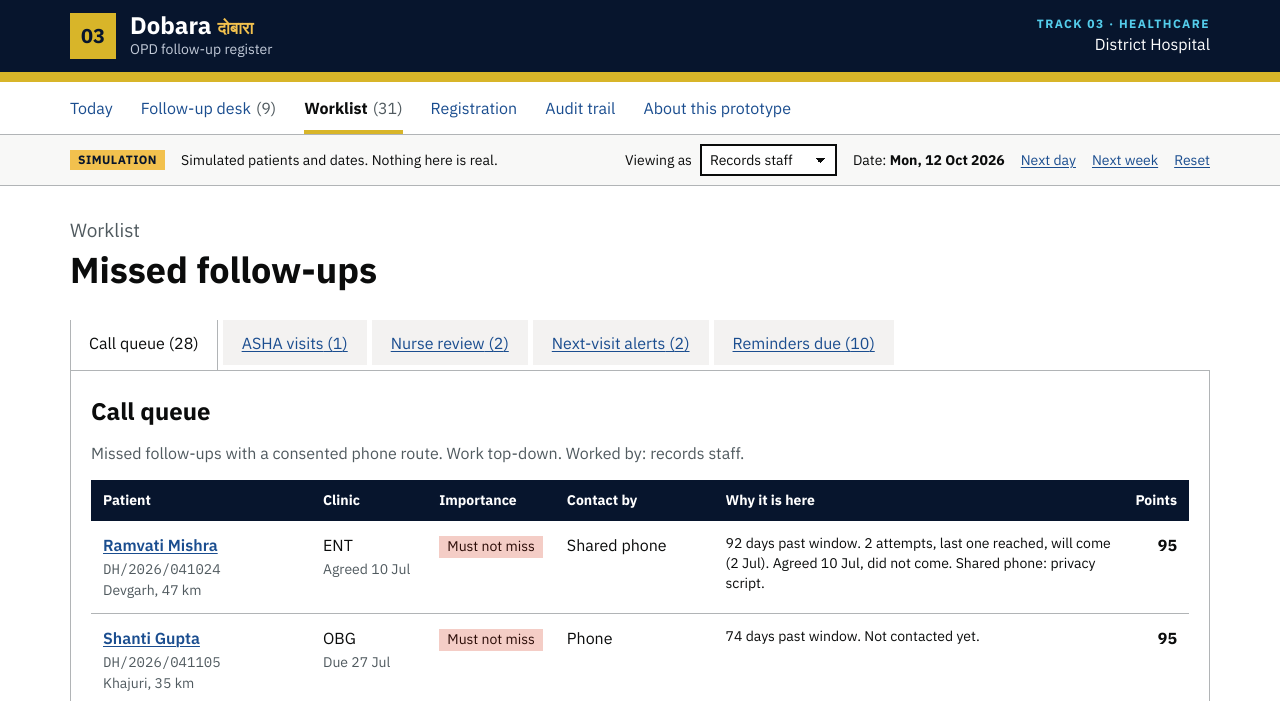
Test: app smoke test › opens a case page from the worklist
What coordinates should you click on to do the following:
click the link "Ramvati Mishra"
I would click on:
 (160, 545)
Its box is x1=103 y1=535 x2=218 y2=555.
(page scrolled)
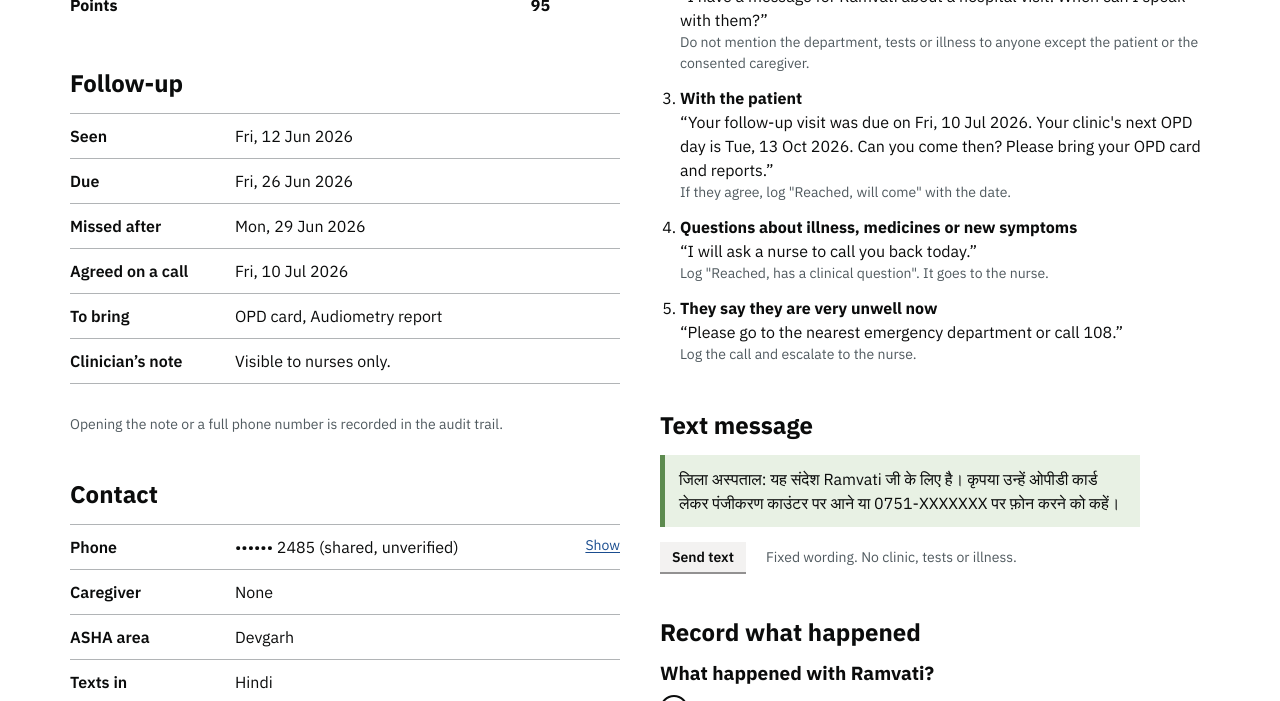
Now the text "Visible to nurses only." is shown, box x1=235 y1=351 x2=391 y2=371
